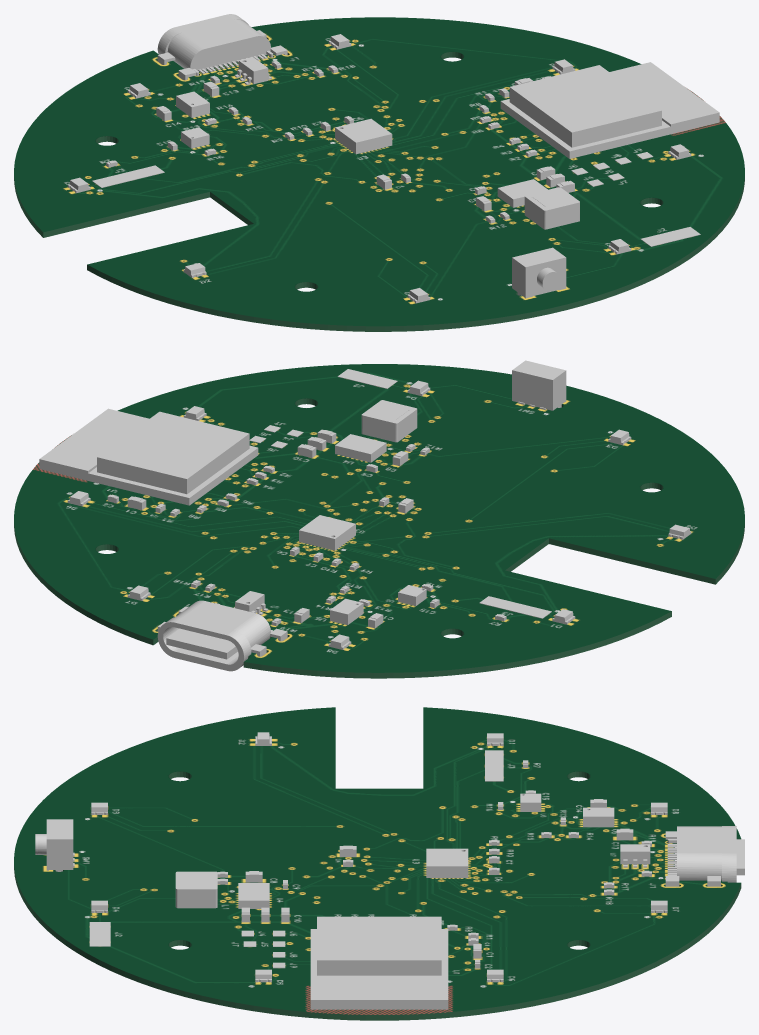
Rendered from board.glb.
3 views of the same model, one above another, from view 1: azimuth 30°, elevation 25°; view 2: azimuth 150°, elevation 25°; view 3: azimuth 270°, elevation 25° (orthographic).
Parts seen in each view (by area): view 1: Box0, u1, j1, sw1, l1, u3, u4, d9, jprb, u5, jbat; view 2: Box0, u1, j1, sw1, l1, u3, u4, jprb, u5, jbat, d9; view 3: Box0, u1, j1, sw1, l1, u3, u4, d9, u5, jprb, jbat.
Boxes of the visible parts, box(x1,y1,x2,y2) form: Box0: box(14, 17, 744, 331); u1: box(500, 62, 719, 158); j1: box(157, 14, 287, 80); sw1: box(512, 247, 566, 298); l1: box(524, 187, 579, 229); u3: box(335, 118, 392, 154); u4: box(497, 179, 547, 207); d9: box(234, 57, 271, 84); jprb: box(92, 165, 164, 187); u5: box(176, 91, 209, 117); jbat: box(640, 227, 700, 246); Box0: box(14, 364, 744, 678); u1: box(39, 408, 258, 505); j1: box(157, 600, 287, 671); sw1: box(512, 360, 566, 410); l1: box(361, 400, 417, 442); u3: box(299, 515, 355, 550); u4: box(335, 434, 386, 462); jprb: box(479, 596, 551, 618); u5: box(330, 598, 363, 624); jbat: box(337, 369, 397, 388); d9: box(234, 591, 268, 615); Box0: box(14, 707, 741, 1020); u1: box(310, 916, 448, 1009); j1: box(665, 826, 744, 886); sw1: box(35, 819, 74, 871); l1: box(175, 871, 217, 908); u3: box(426, 848, 468, 878); u4: box(238, 883, 269, 908); d9: box(620, 844, 650, 867); u5: box(583, 807, 614, 827); jprb: box(485, 750, 503, 781); jbat: box(89, 922, 110, 946).
Size of the model in its own units: 0.0697 by 0.00492 by 0.07.
Materials: 4 (2 with a texture image).
